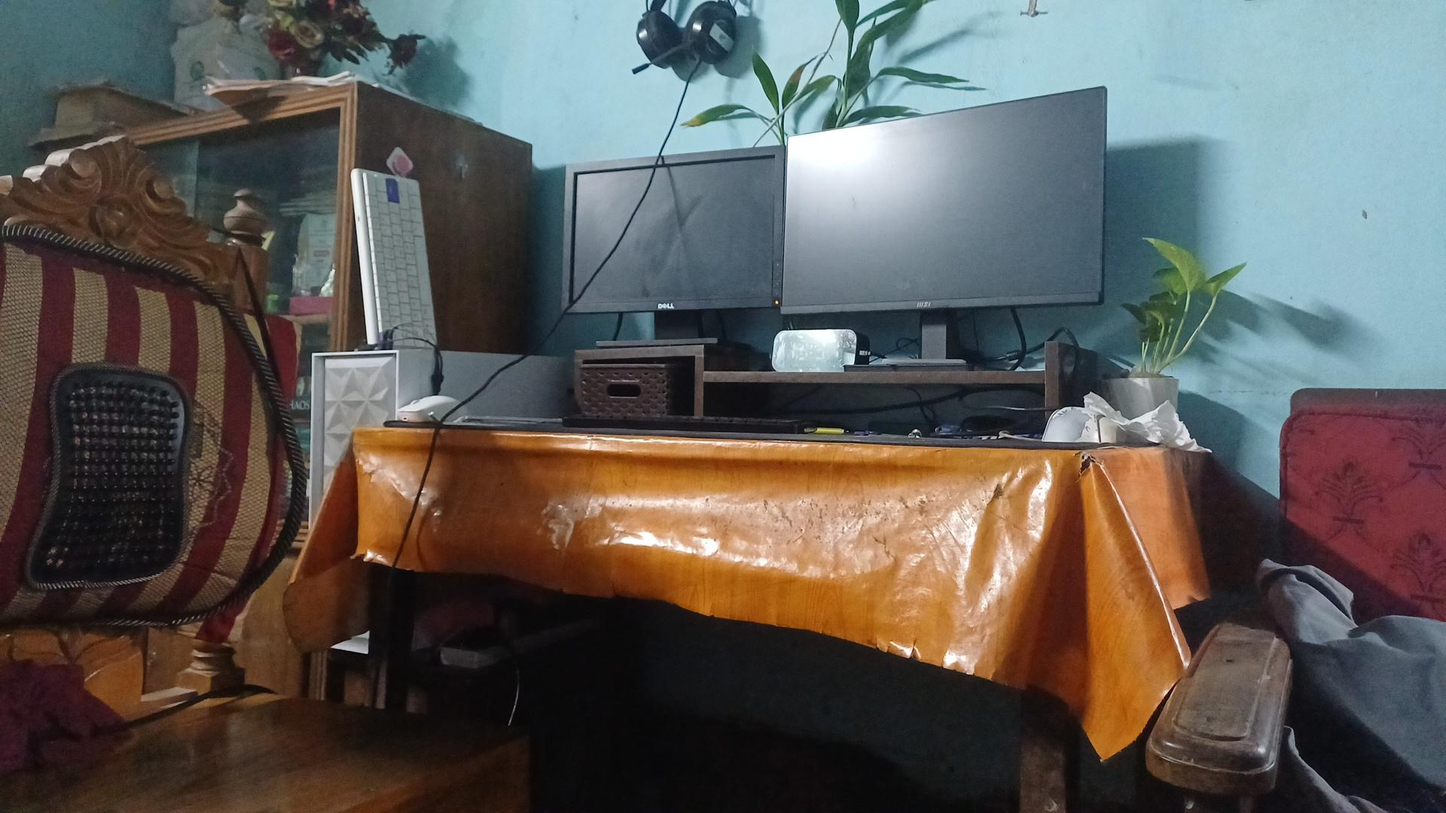Chair: (0, 120, 406, 790)
Clock: (773, 325, 865, 386)
Keyboard: (346, 157, 462, 339)
Monitor: (775, 116, 1124, 315), (561, 149, 788, 346)
Mouse: (1040, 394, 1114, 457), (404, 390, 490, 433)
Plant: (1127, 210, 1235, 435)
